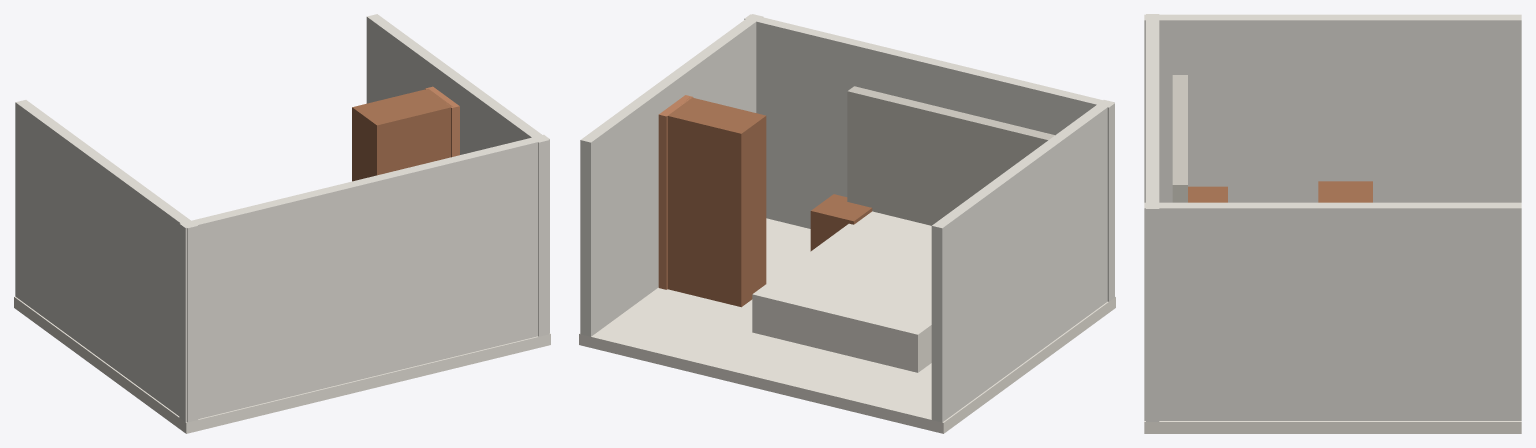
Rendered from bedroom-study.glb.
3 renders of one model, left to right at view 1: azimuth 30°, elevation 25°; view 2: azimuth 150°, elevation 25°; view 3: azimuth 270°, elevation 25°, orthographic. The views are drawn at different scales.
Visible parts, largest first — view 1: wall (×3), wardrobe, floor, wardrobe-accent; view 2: wall (×3), floor, bed, wardrobe, headboard, wardrobe-accent, night-right; view 3: wall (×3), floor, headboard, wardrobe, night-left.
Part boxes in pixels (<box>): wall (×3): <box>15,14,549,422</box>; wardrobe: <box>352,88,452,181</box>; floor: <box>14,296,550,433</box>; wardrobe-accent: <box>425,86,459,157</box>; wall (×3): <box>580,14,1114,422</box>; floor: <box>579,218,1115,433</box>; bed: <box>752,211,931,372</box>; wardrobe: <box>667,97,766,307</box>; headboard: <box>847,86,1054,225</box>; wardrobe-accent: <box>658,95,693,289</box>; night-right: <box>810,194,872,251</box>; wall (×3): <box>1144,14,1521,421</box>; floor: <box>1144,421,1521,433</box>; headboard: <box>1172,75,1187,202</box>; wardrobe: <box>1318,181,1372,202</box>; night-left: <box>1188,186,1227,202</box>.
Bounding box in the file's own units: 5.5 × 2.96 × 4.5.
